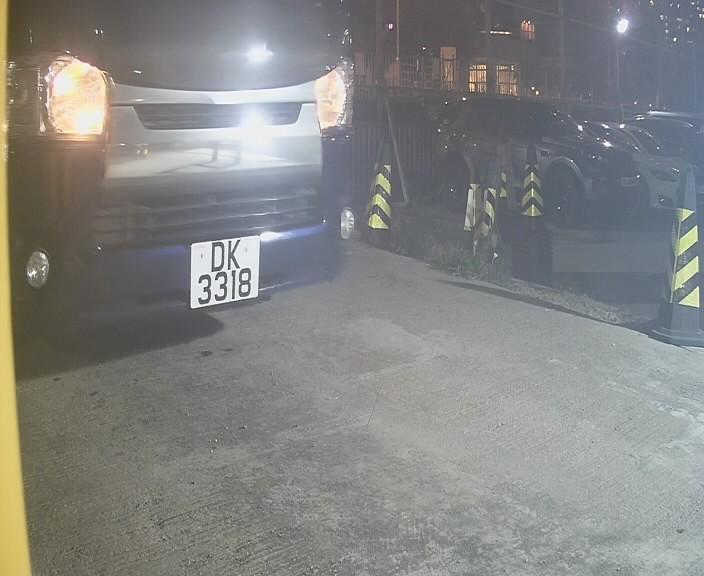License Plate: (177, 232, 271, 314)
